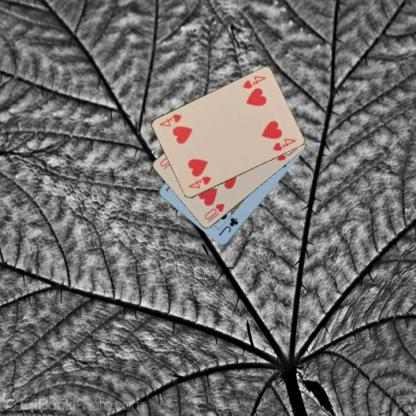10h: (202, 201, 226, 221)
4h: (240, 74, 267, 90), (186, 174, 212, 190)
Jc: (216, 215, 240, 237)
